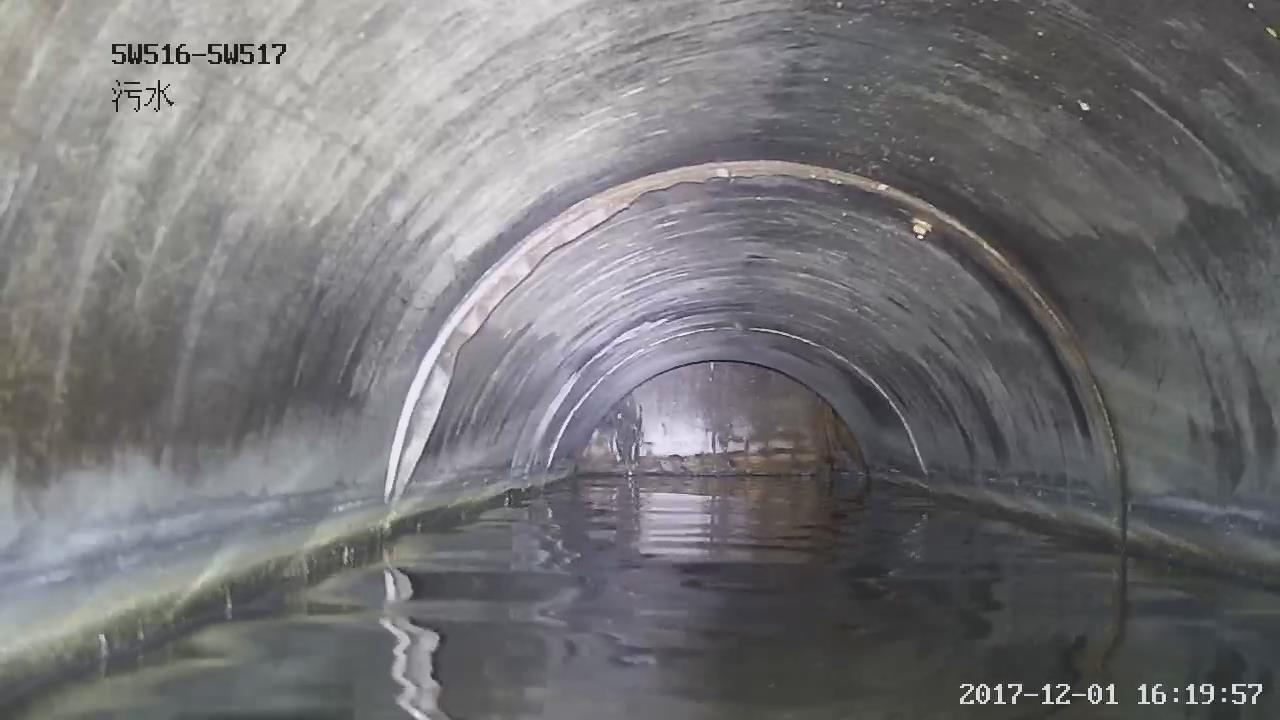JKCL: (372, 144, 896, 525)
